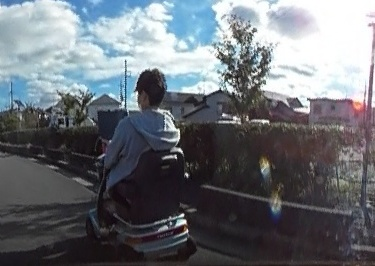person: (109, 64, 182, 199)
